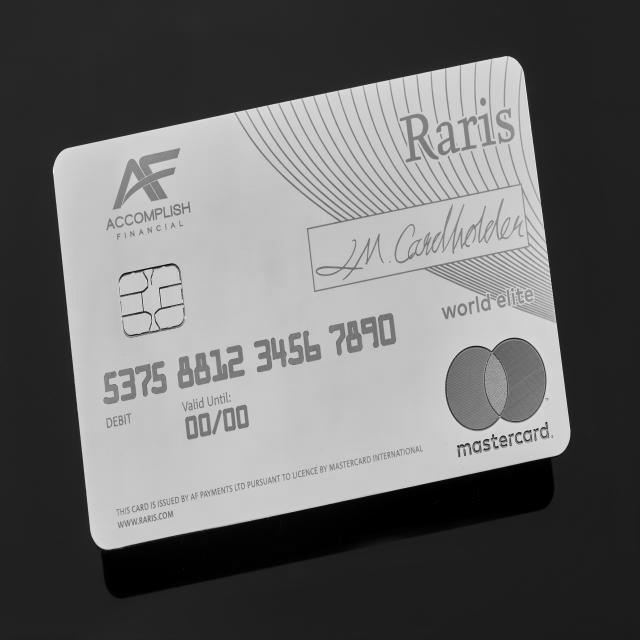card: (54, 56, 578, 558)
